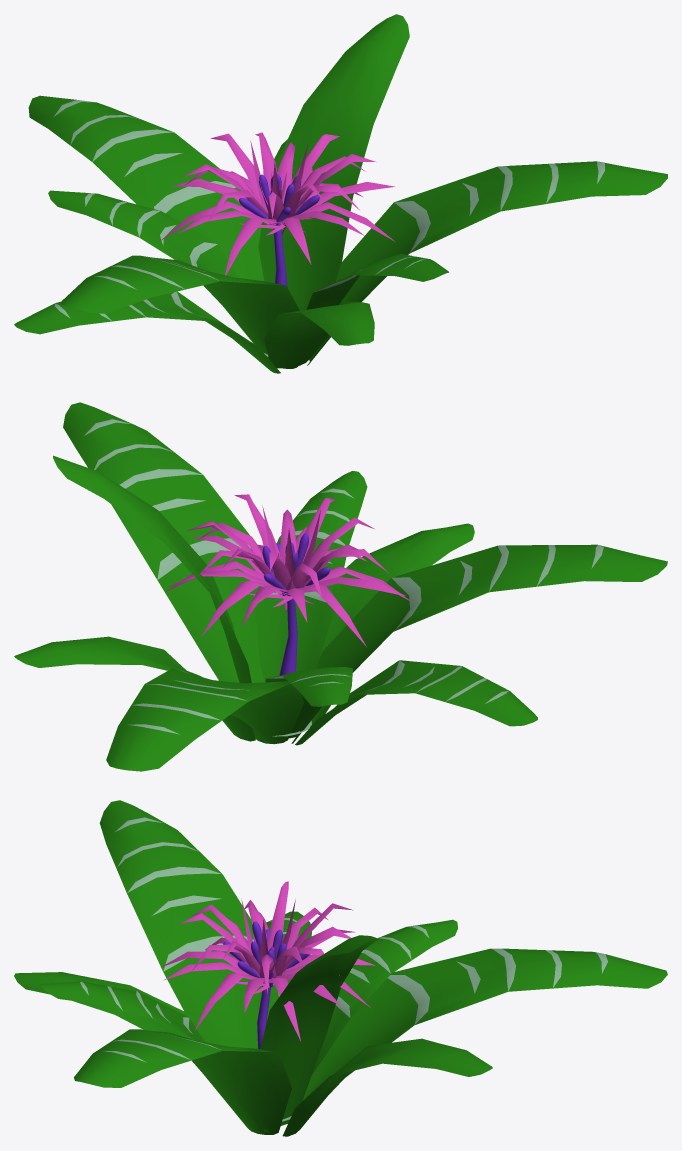
Rendered from Bromelia_02.fbx.
The picture shows the model from 3 angles, top to bottom: view 1: azimuth 30°, elevation 25°; view 2: azimuth 150°, elevation 25°; view 3: azimuth 270°, elevation 25°; orthographic projection. The views are drawn at different scales.
Visible parts, largest first — view 1: Bromelia_02, Brom_flower; view 2: Bromelia_02, Brom_flower; view 3: Bromelia_02, Brom_flower.
Boxes of the visible parts, bbox=[...] form: Bromelia_02: bbox=[14, 14, 667, 373]; Brom_flower: bbox=[159, 132, 395, 287]; Bromelia_02: bbox=[14, 402, 667, 771]; Brom_flower: bbox=[166, 494, 411, 675]; Bromelia_02: bbox=[14, 800, 667, 1136]; Brom_flower: bbox=[161, 881, 375, 1048].
Size of the model in its own units: 2.55 by 1.12 by 2.49.
